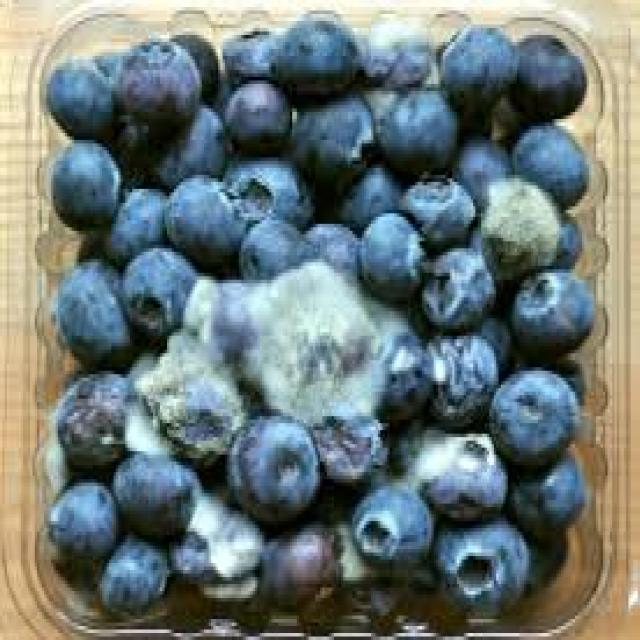food_waste: (44, 14, 594, 626)
